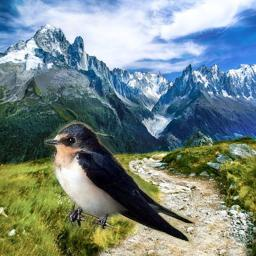Swallow: (44, 120, 195, 247)
